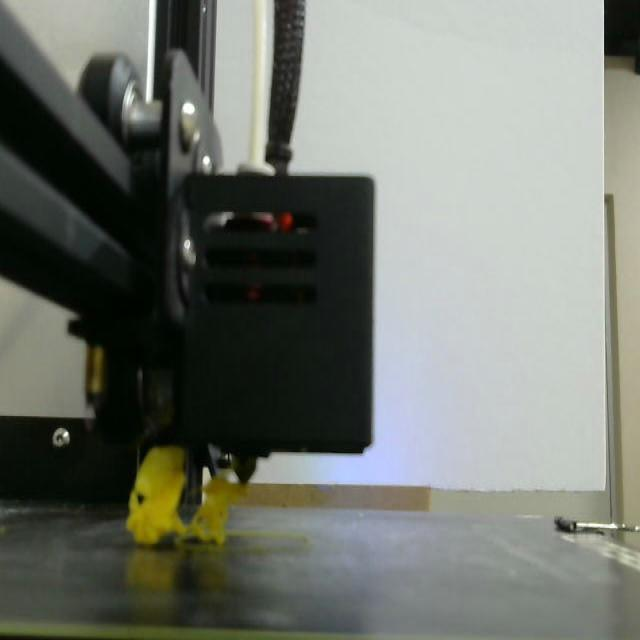spaghetti: (122, 446, 252, 546)
